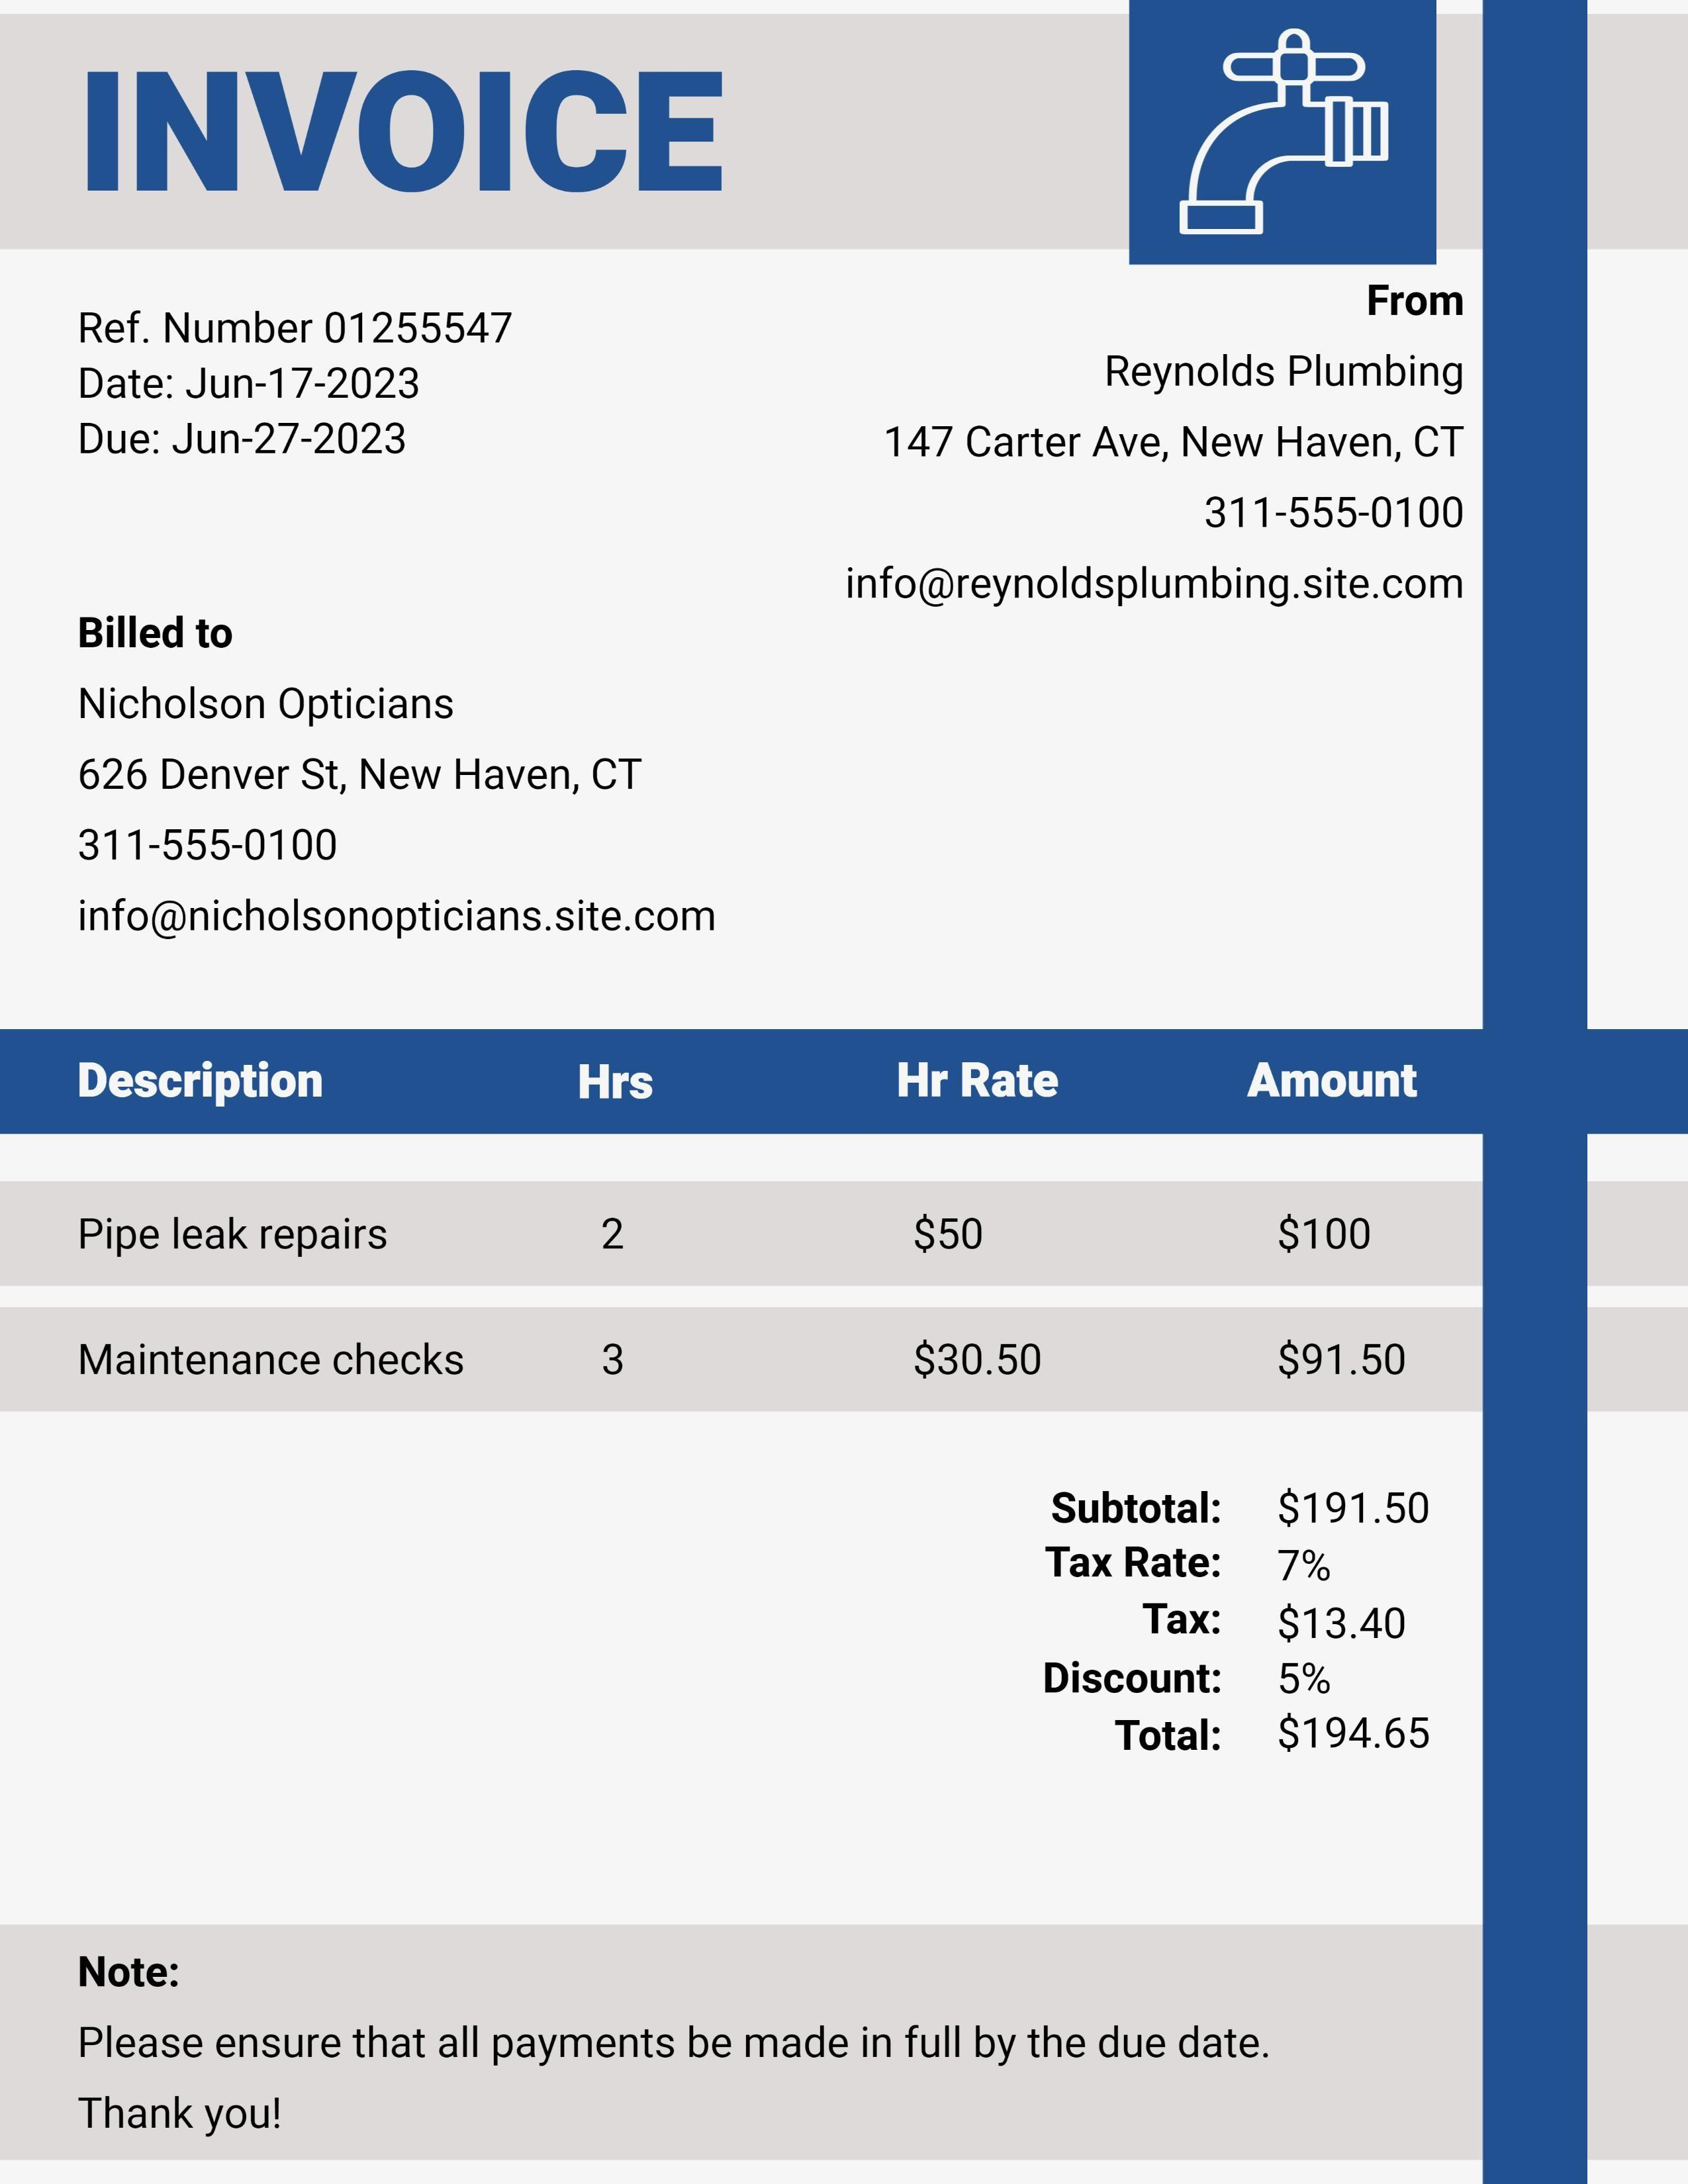ROI: (0, 1028, 1481, 1409), (16, 1939, 1325, 2157), (69, 613, 757, 943), (828, 282, 1470, 604), (1009, 1471, 1459, 1785), (66, 289, 537, 475)
